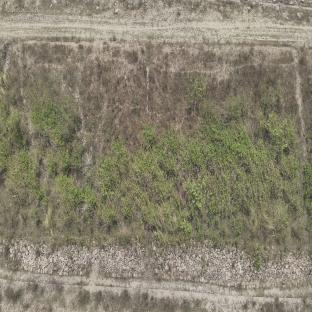rock_toe: (0, 232, 161, 280), (162, 247, 312, 284)
toe_drain: (0, 269, 311, 298)
vegetation: (7, 83, 312, 235)
